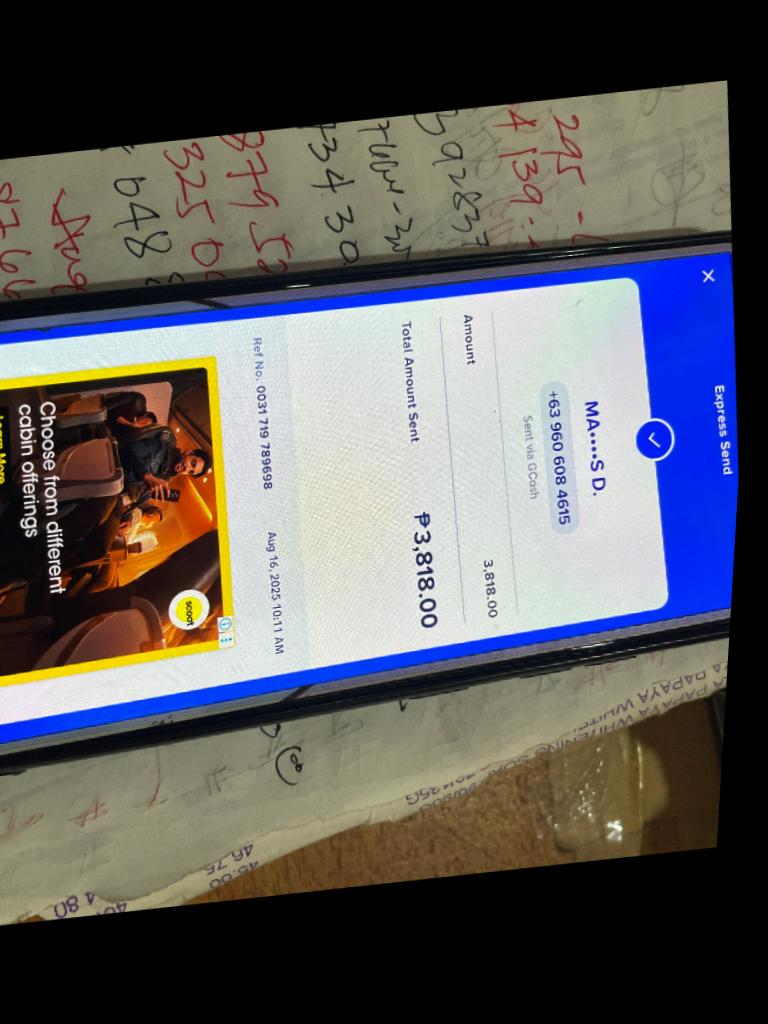Receipt: (0, 251, 739, 742)
